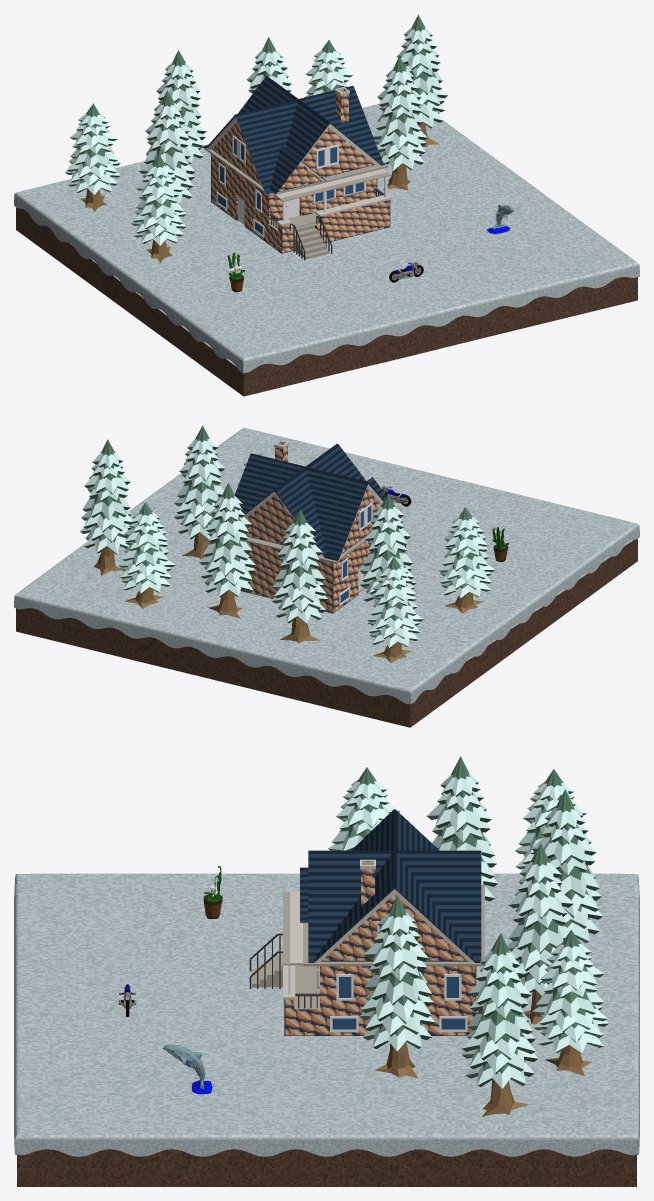
3 renders of one model, top to bottom at view 1: azimuth 30°, elevation 25°; view 2: azimuth 150°, elevation 25°; view 3: azimuth 270°, elevation 25°, orthographic. The views are drawn at different scales.
Parts seen in each view (by area): view 1: Cube.003, Cube.430; view 2: Cube.003, Cube.430; view 3: Cube.003, Cube.430, ANIMAL_DELFIN, OBJRANDOM_MONJA BLANCA.
Boxes of the visible parts, x1,y1,x2,y2 form: Cube.003: [14, 14, 639, 396]; Cube.430: [202, 76, 393, 260]; Cube.003: [14, 425, 639, 727]; Cube.430: [235, 440, 405, 613]; Cube.003: [14, 756, 639, 1186]; Cube.430: [249, 809, 484, 1035]; ANIMAL_DELFIN: [163, 1044, 214, 1094]; OBJRANDOM_MONJA BLANCA: [203, 866, 222, 918].
Size of the model in its own units: 4040 by 1692 by 4040.
Materials: 36 (4 with a texture image).
